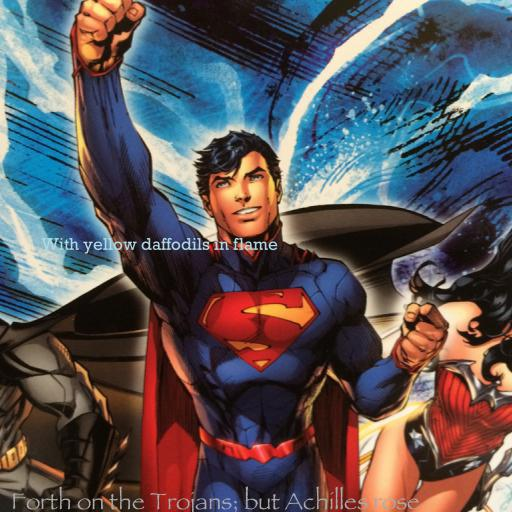Papyrus: (10, 486, 420, 512)
Rockwell: (40, 237, 278, 254)
